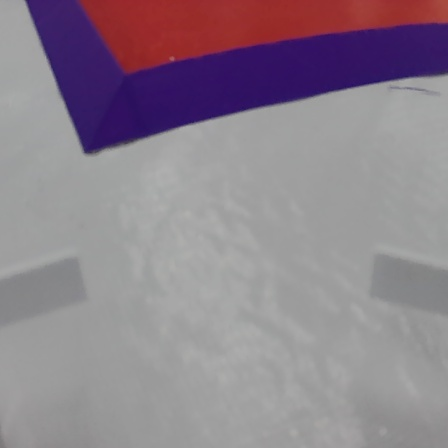red_aim: (19, 0, 445, 169)
